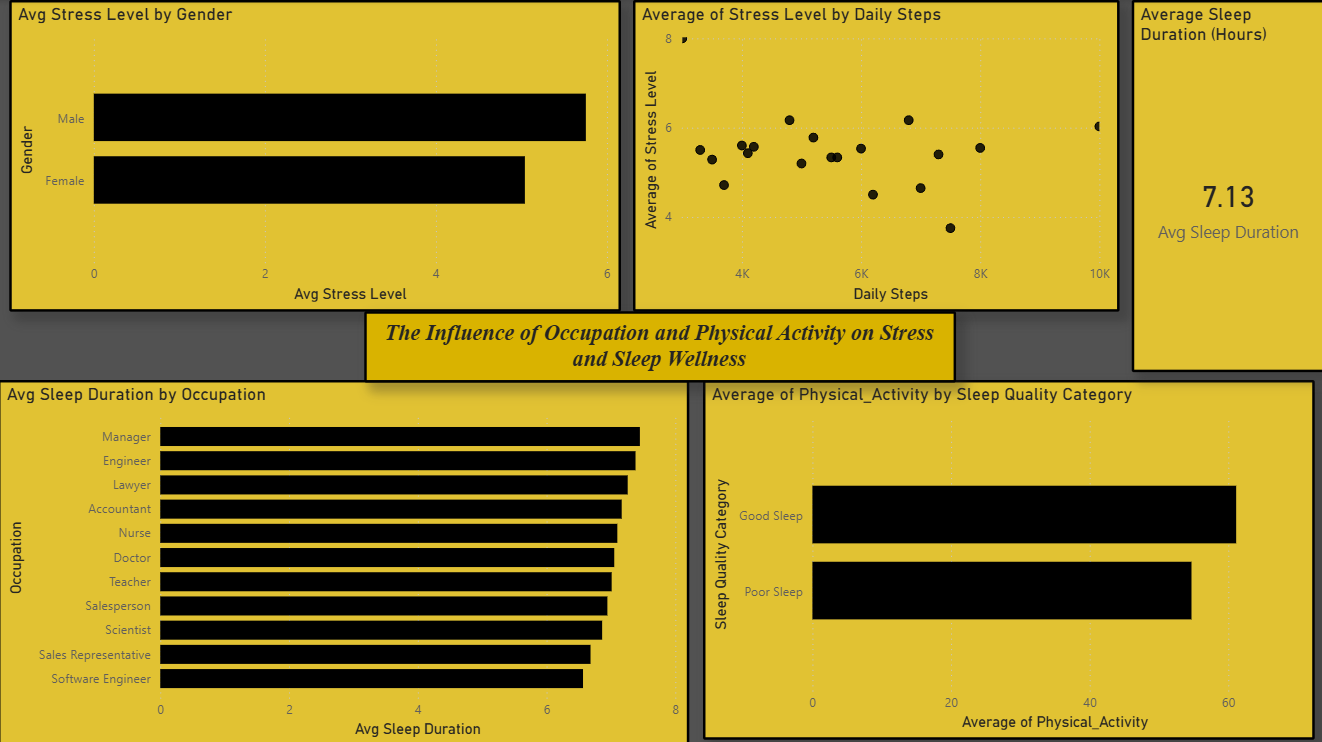

This screenshot's page, from the dashboard's own definition file:
{"tool":"powerbi","page":{"name":"Page 2","canvas":[1280,720],"ordinal":1},"visuals":[{"type":"barChart","fields":{"Category":["Sleep_health_and_lifestyle_data.Gender"],"Y":["Sleep_health_and_lifestyle_data.Avg Stress Level"]},"box":[11,0,590.1,300.5],"z":0},{"type":"scatterChart","fields":{"X":["Sleep_health_and_lifestyle_data.Daily Steps"],"Y":["Avg(Sleep_health_and_lifestyle_data.Stress Level)"]},"box":[613.4,0,469.3,300.5],"z":1000},{"type":"barChart","fields":{"Category":["Sleep_health_and_lifestyle_data.Sleep Quality Category"],"Y":["Avg(Sleep_health_and_lifestyle_data.Physical_Activity)"]},"box":[680.6,366.4,590.1,347.2],"z":2000},{"type":"barChart","fields":{"Category":["Sleep_health_and_lifestyle_data.Occupation"],"Y":["Sleep_health_and_lifestyle_data.Avg Sleep Duration"]},"box":[0,366.4,666.9,354],"z":3000},{"type":"card","title":"Average Sleep Duration (Hours)","fields":{"Values":["Sleep_health_and_lifestyle_data.Avg Sleep Duration"]},"box":[1093.7,0,186.6,359.5],"z":4000},{"type":"textbox","box":[354,300.5,570.8,68.6],"z":5000}]}

Visuals, with their boxes in screenshot pixels (x1, y1, x2, y2), scaled from the page's 1280x720 canvas onto the 1322x742 screenshot:
barChart - Sleep_health_and_lifestyle_data.Gender x Sleep_health_and_lifestyle_data.Avg Stress Level: (x1=11, y1=0, x2=621, y2=310)
scatterChart - Sleep_health_and_lifestyle_data.Daily Steps x Avg(Sleep_health_and_lifestyle_data.Stress Level): (x1=634, y1=0, x2=1118, y2=310)
barChart - Sleep_health_and_lifestyle_data.Sleep Quality Category x Avg(Sleep_health_and_lifestyle_data.Physical_Activity): (x1=703, y1=378, x2=1312, y2=735)
barChart - Sleep_health_and_lifestyle_data.Occupation x Sleep_health_and_lifestyle_data.Avg Sleep Duration: (x1=0, y1=378, x2=689, y2=741)
"Average Sleep Duration (Hours)" card: (x1=1130, y1=0, x2=1321, y2=370)
textbox: (x1=366, y1=310, x2=955, y2=380)
